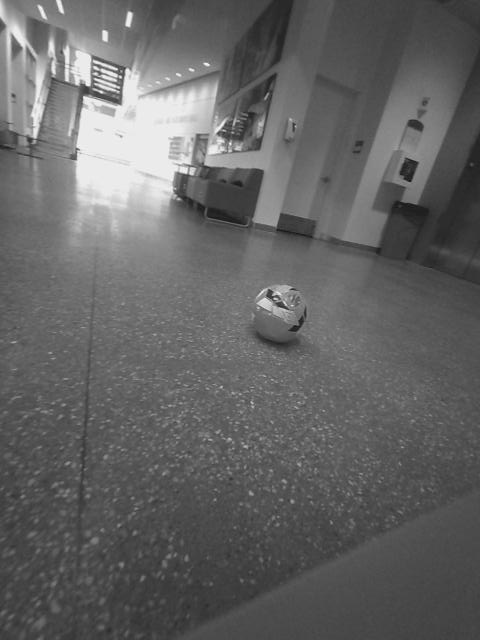ball: (209, 296, 294, 380)
